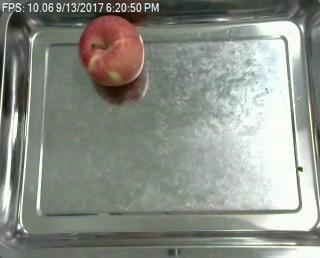apple: (79, 13, 144, 85)
